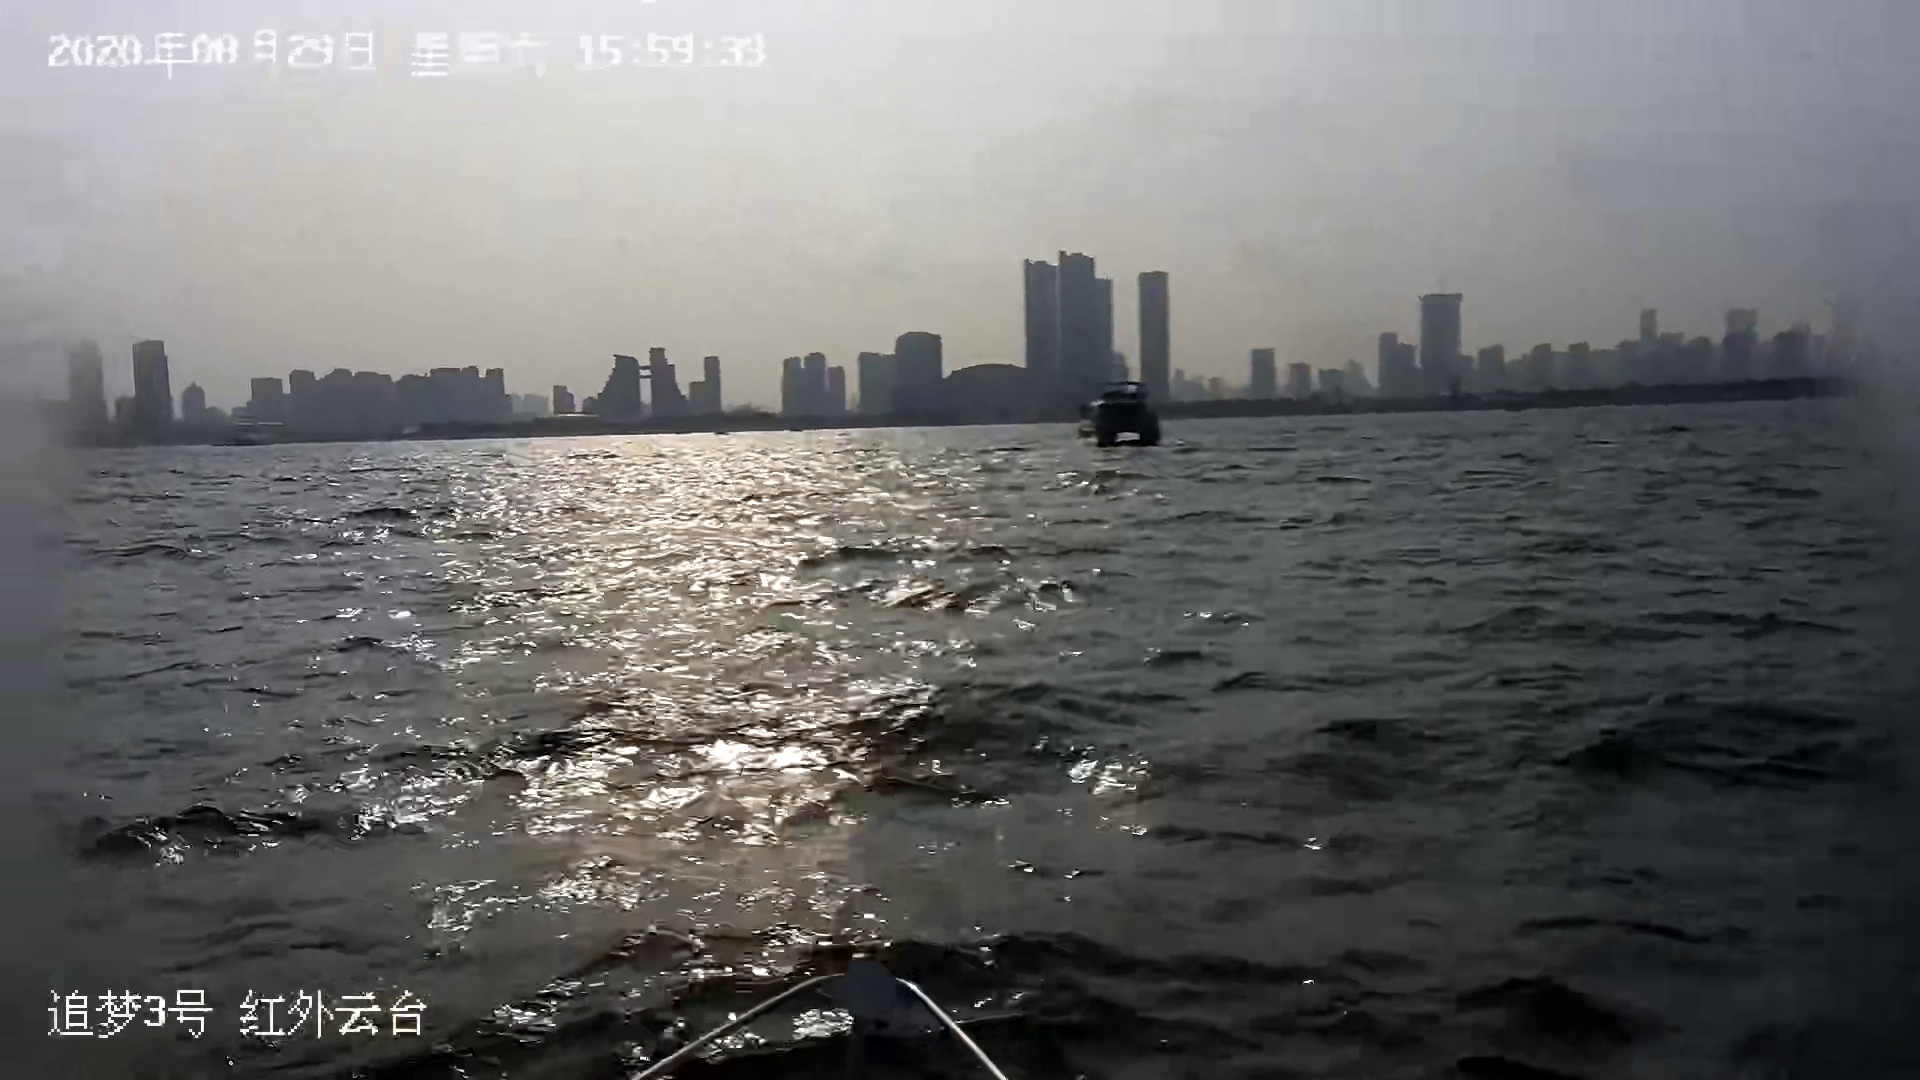barrier: (1083, 372, 1164, 448)
coast: (25, 243, 1899, 446)
